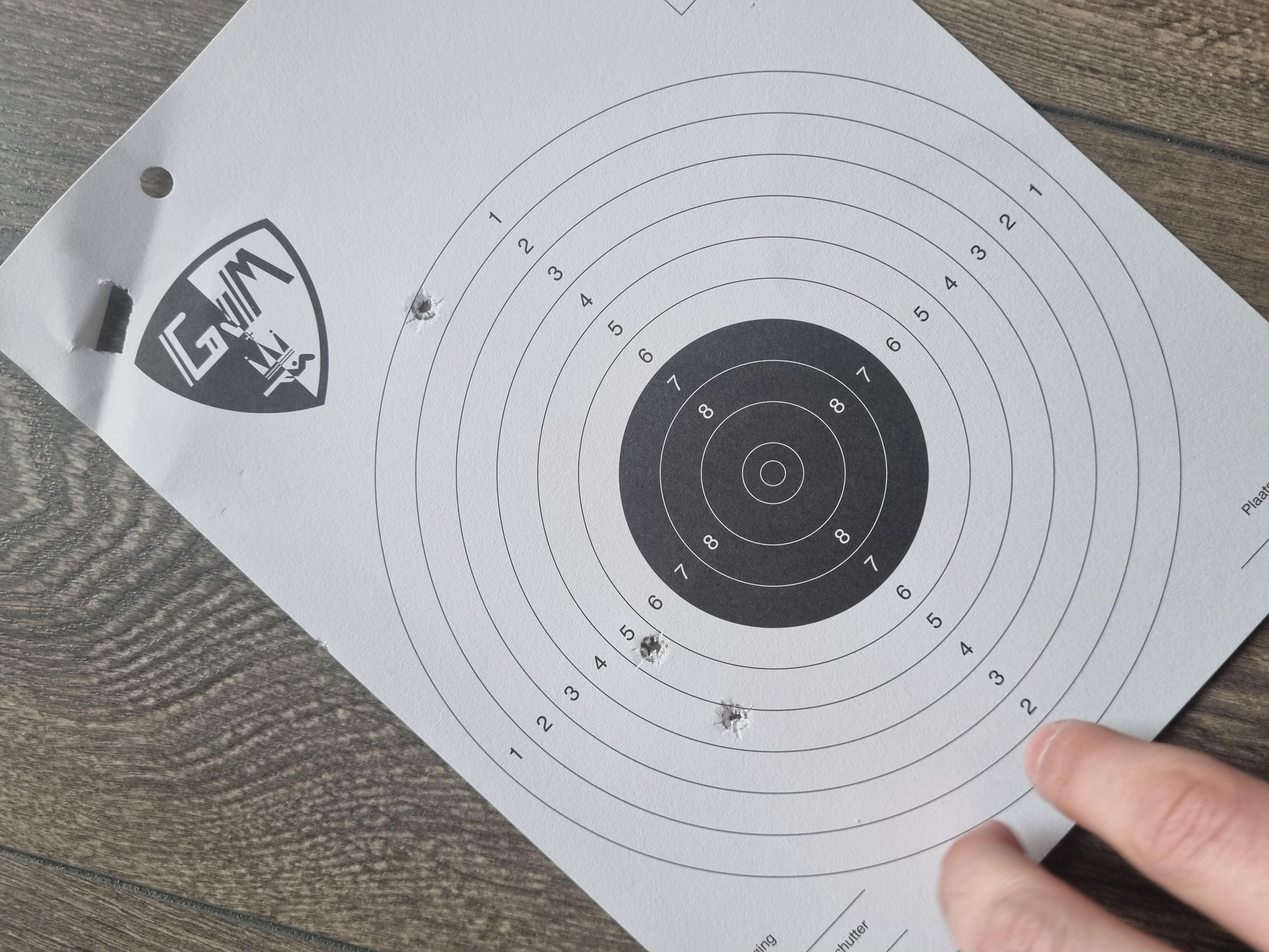hole: (835, 303, 886, 334), (291, 538, 338, 561), (386, 479, 423, 501)
